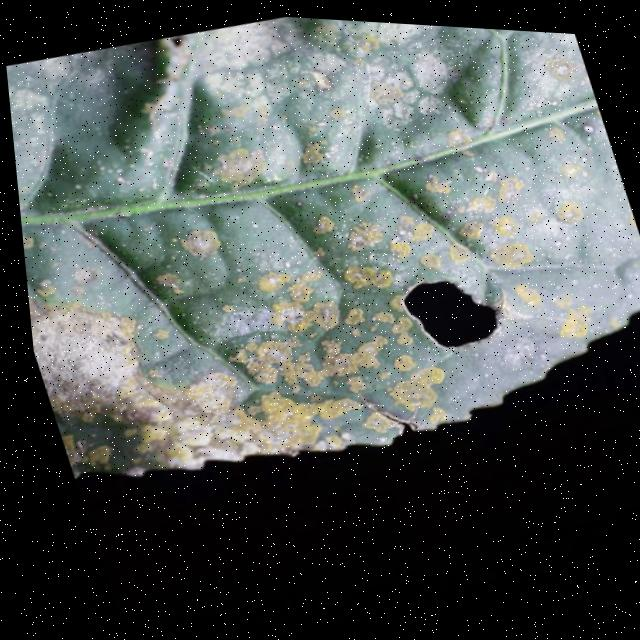Tea red rust: (0, 0, 640, 506)
